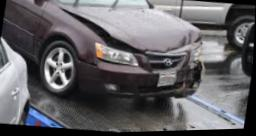Bonnet: (59, 6, 204, 58)
Bumper: (154, 61, 206, 99)
